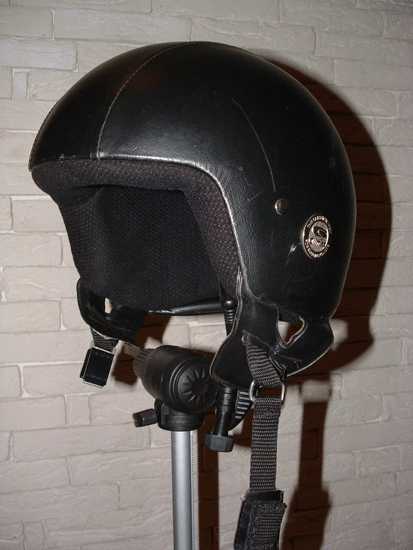helmet: (47, 53, 374, 353)
